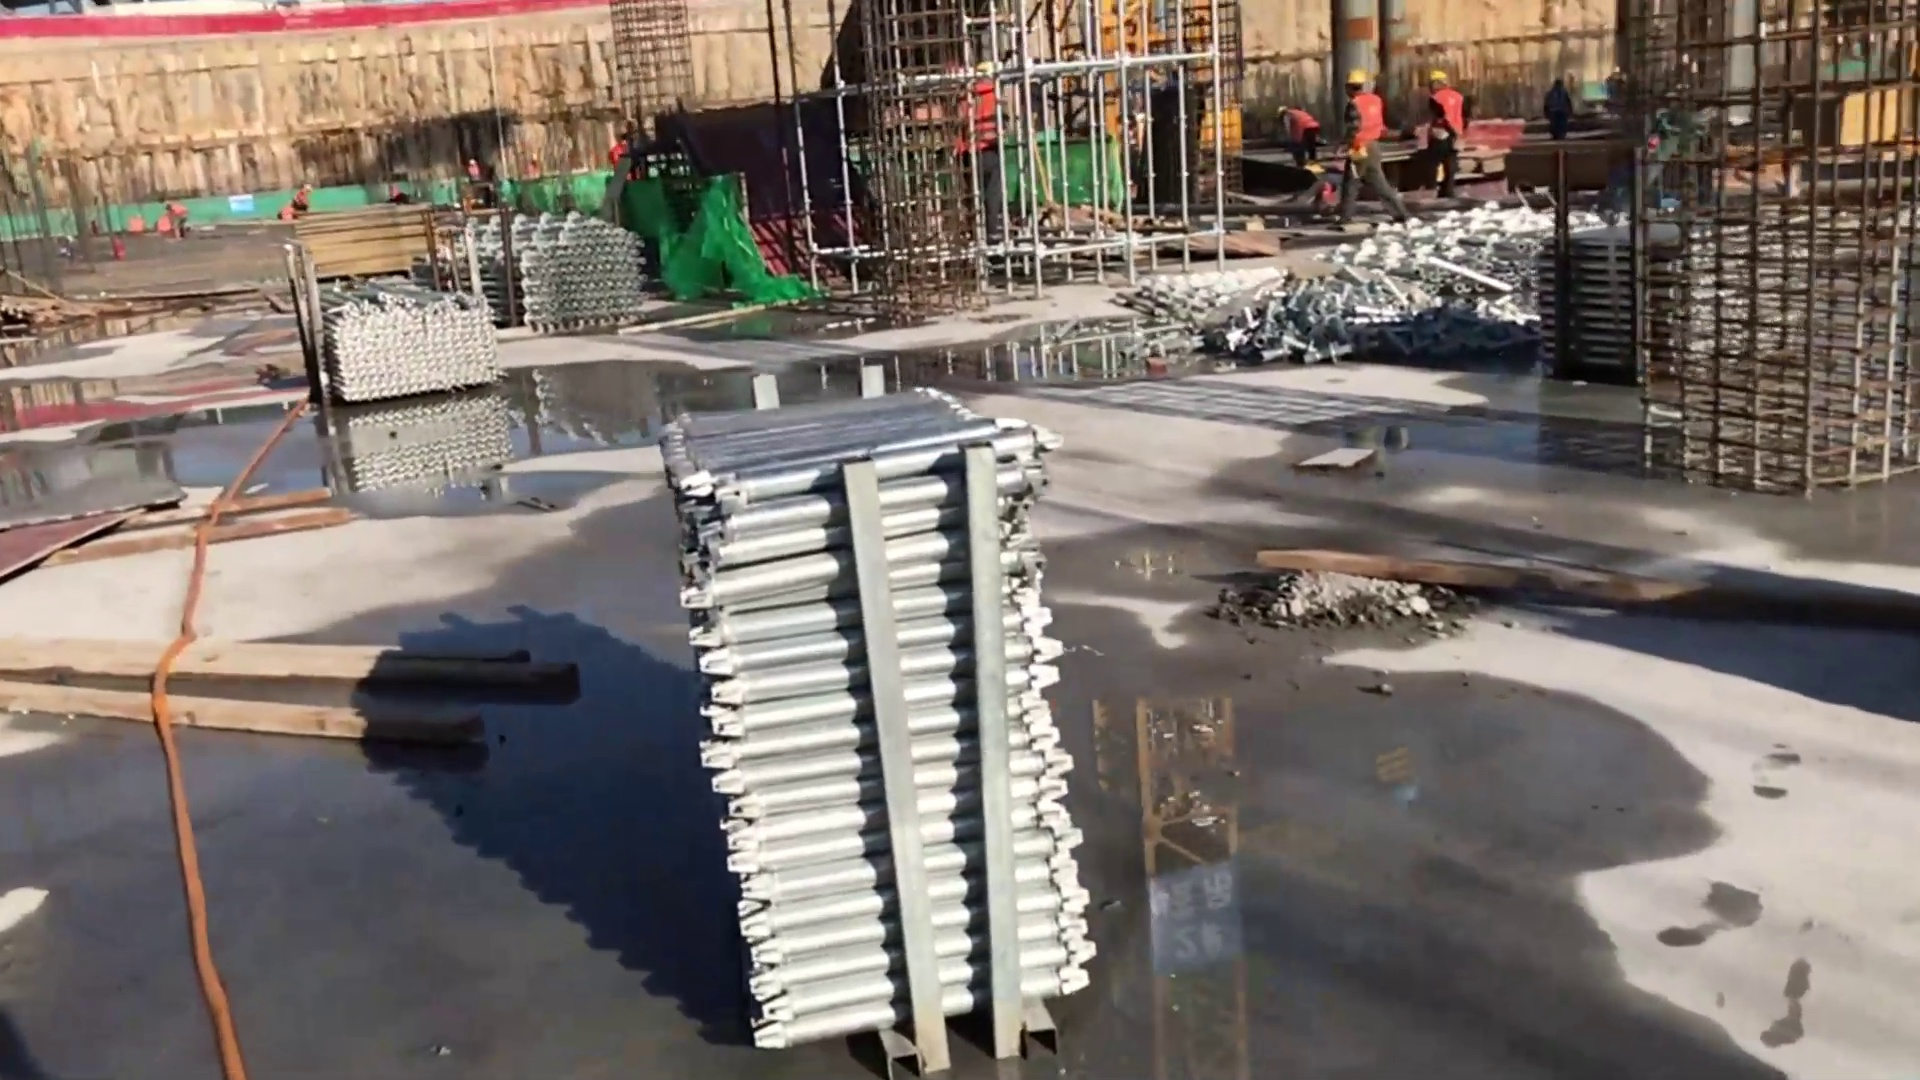board: (282, 206, 452, 280)
person: (1333, 62, 1400, 230), (1417, 70, 1471, 199), (1263, 100, 1323, 174)
scaffold: (655, 391, 1105, 1057), (1370, 222, 1536, 356), (321, 287, 504, 405), (517, 218, 646, 332)
vest: (1429, 86, 1464, 142), (1350, 95, 1386, 149)
